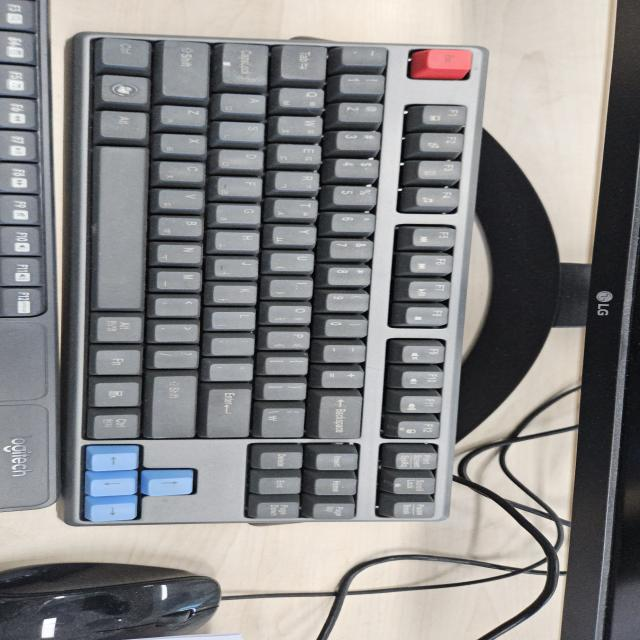Keyboard: (89, 36, 447, 522)
Mouse: (1, 560, 224, 638)
